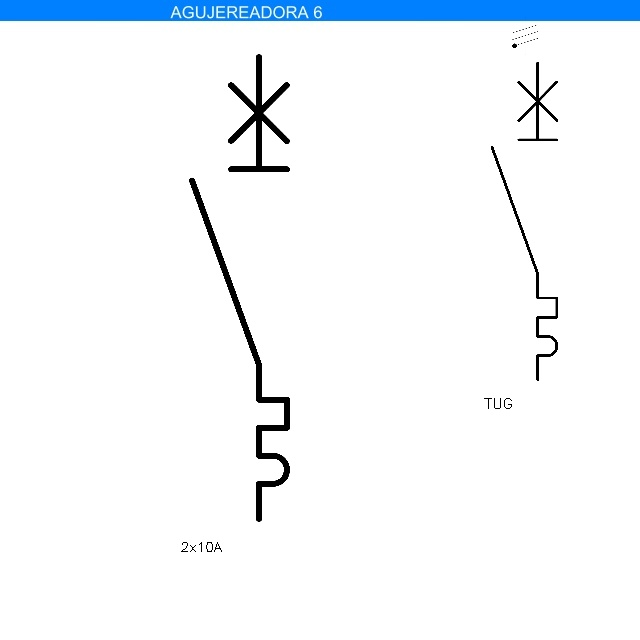interruptor_termomagnetico: (180, 45, 299, 531), (484, 54, 565, 387)
